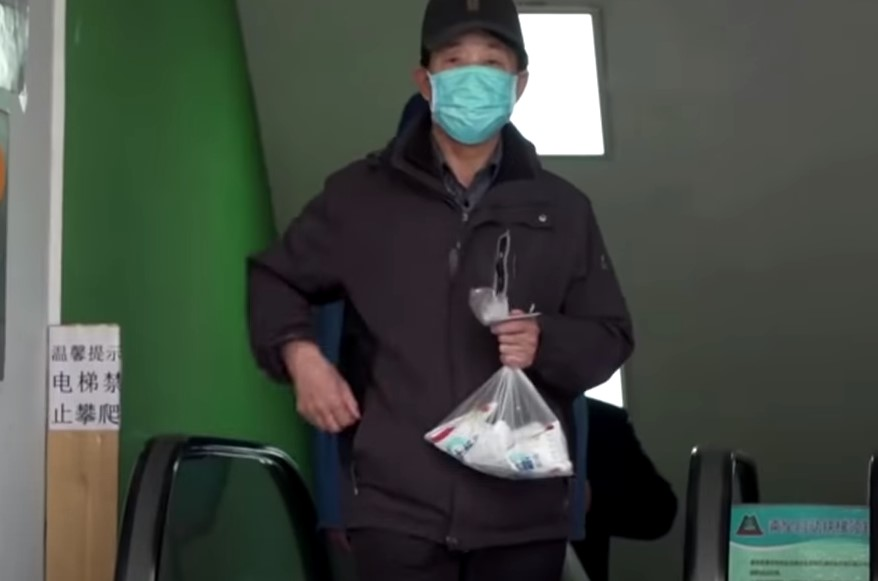face_with_mask: (416, 3, 531, 153)
